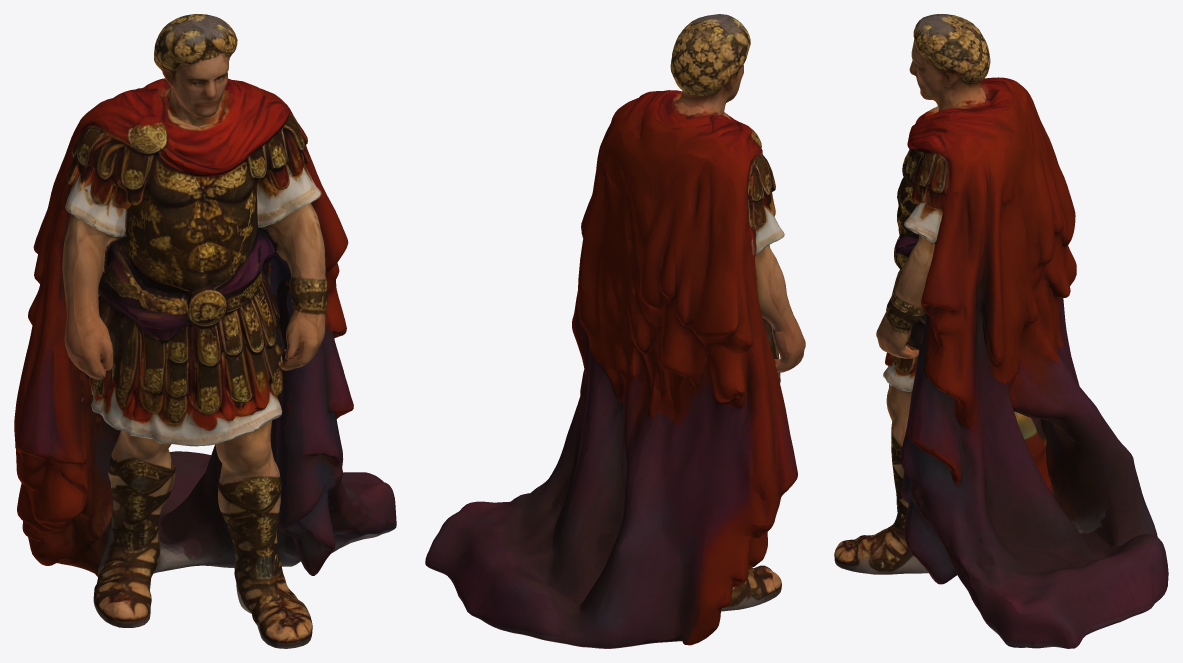
The model's file is Caesar.glb.
The picture shows the model from 3 angles, left to right: view 1: azimuth 30°, elevation 25°; view 2: azimuth 150°, elevation 25°; view 3: azimuth 270°, elevation 25°; orthographic projection. The views are drawn at different scales.
Parts seen in each view (by area): view 1: textured_mesh.obj; view 2: textured_mesh.obj; view 3: textured_mesh.obj.
Part boxes in pixels (box(x1,y1,x2,y2)): textured_mesh.obj: box(14, 14, 396, 648); textured_mesh.obj: box(425, 14, 805, 648); textured_mesh.obj: box(834, 14, 1168, 648).
Size of the model in its own units: 1.31 by 1.99 by 1.15.
1 material, 1 textured.
